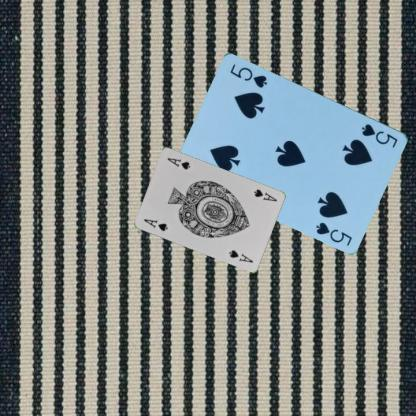5s: (360, 121, 400, 150)
As: (141, 216, 169, 232), (251, 186, 278, 202)
